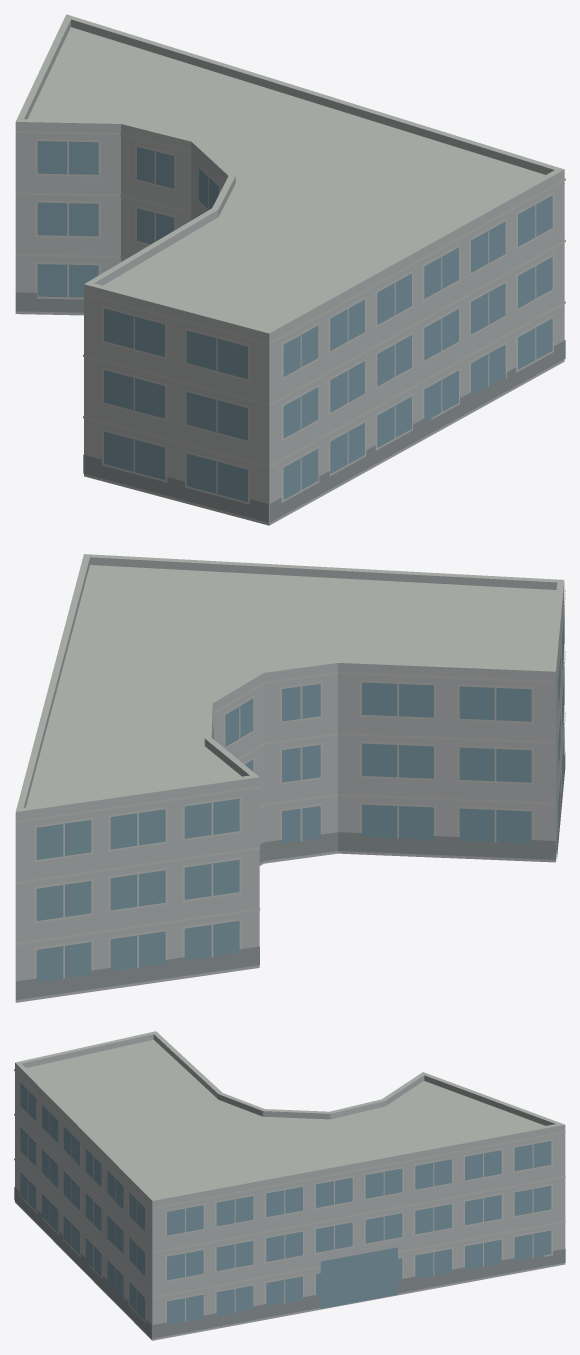
File: public-e1585558-5316-4d68-917a-d277f2f6cdfa.glb
3 renders of one model, top to bottom at view 1: azimuth 30°, elevation 25°; view 2: azimuth 150°, elevation 25°; view 3: azimuth 270°, elevation 25°, orthographic. The views are drawn at different scales.
Parts seen in each view (by area): view 1: public-e1585558-5316-4d68-917a-d277f2f6cdfa; view 2: public-e1585558-5316-4d68-917a-d277f2f6cdfa; view 3: public-e1585558-5316-4d68-917a-d277f2f6cdfa.
Part boxes in pixels (bbox=[...]): public-e1585558-5316-4d68-917a-d277f2f6cdfa: bbox=[15, 14, 565, 525]; public-e1585558-5316-4d68-917a-d277f2f6cdfa: bbox=[15, 554, 565, 1002]; public-e1585558-5316-4d68-917a-d277f2f6cdfa: bbox=[14, 1031, 565, 1340].
Size of the model in its own units: 23.95 by 9.15 by 32.73.
